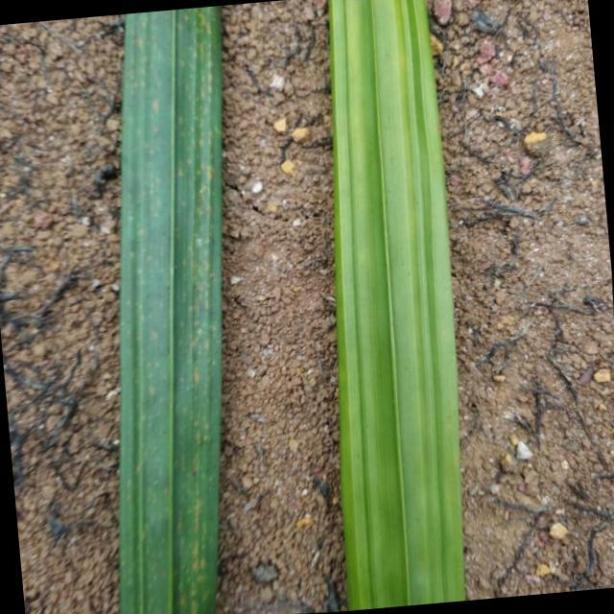nitrogen: (326, 0, 465, 610), (112, 0, 221, 614)
